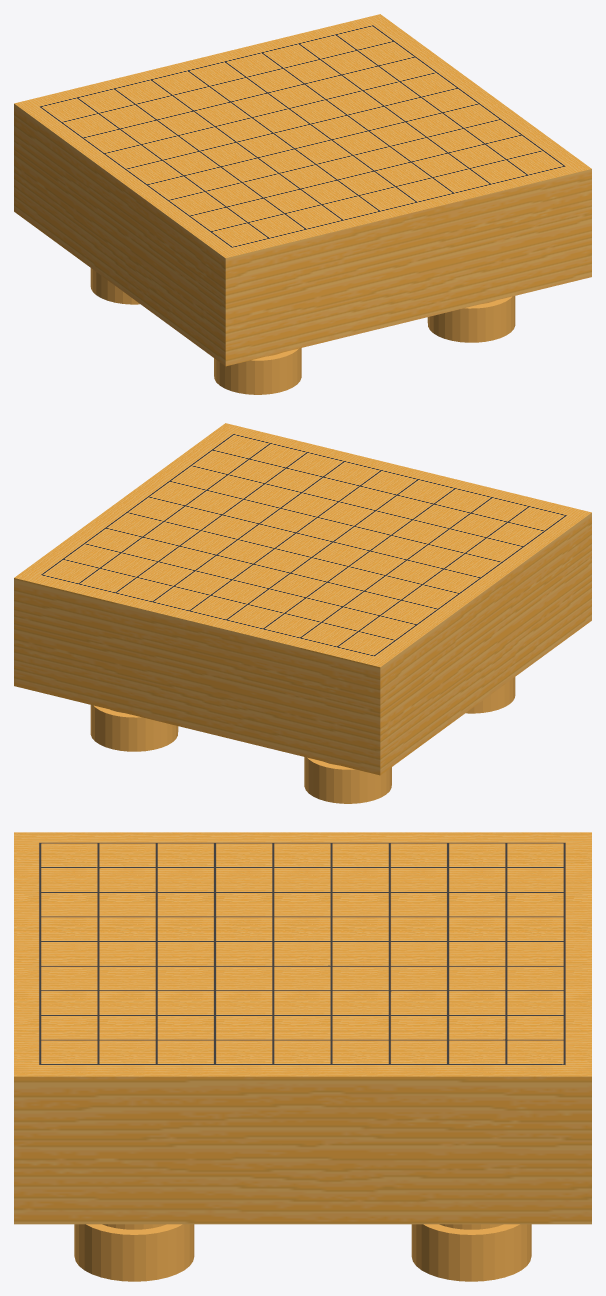
The model's file is SyougiPlate1.fbx.
3 views of the same model, one above another, from view 1: azimuth 30°, elevation 25°; view 2: azimuth 150°, elevation 25°; view 3: azimuth 270°, elevation 25° (orthographic). The views are drawn at different scales.
Parts seen in each view (by area): view 1: Plate; view 2: Plate; view 3: Plate.
Boxes of the visible parts, box(x1,y1,x2,y2) form: Plate: box(14, 14, 591, 394); Plate: box(14, 423, 591, 803); Plate: box(14, 832, 591, 1281).
Bounding box in the file's own units: 2400 × 1058 × 2400.
Materials: 1 (1 with a texture image).
